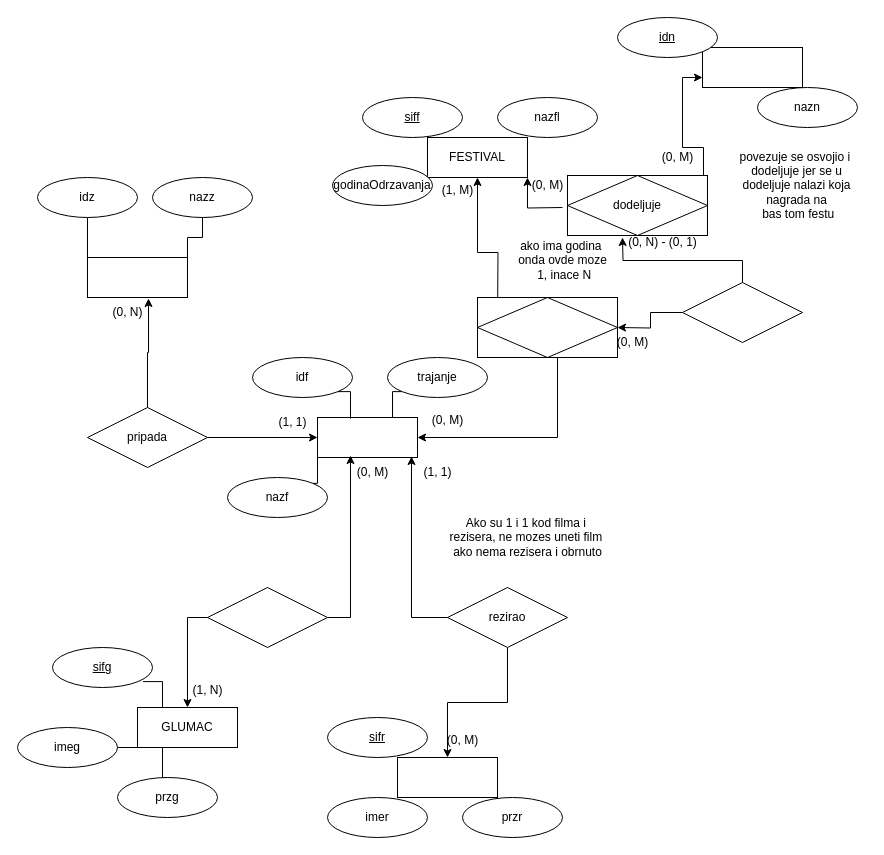
The diagram is 884 pixels wide and 855 high, and some of its shapes have lost their labels. The centre of each missing label's shape, as x and y in pixels:
"FILM" belongs at (367,437).
"glumi" belongs at (267,617).
"osvojio" belongs at (742,312).
"REZISER" belongs at (447,777).
"ucestvuje" belongs at (547,327).
"VrstaNagrade" belongs at (752,67).
"ZANR" belongs at (137,277).
